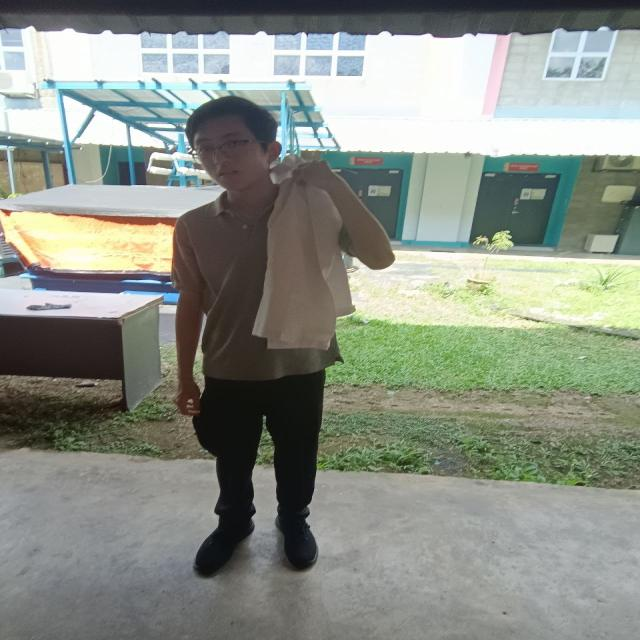person_without_labcoat: (172, 96, 394, 575)
